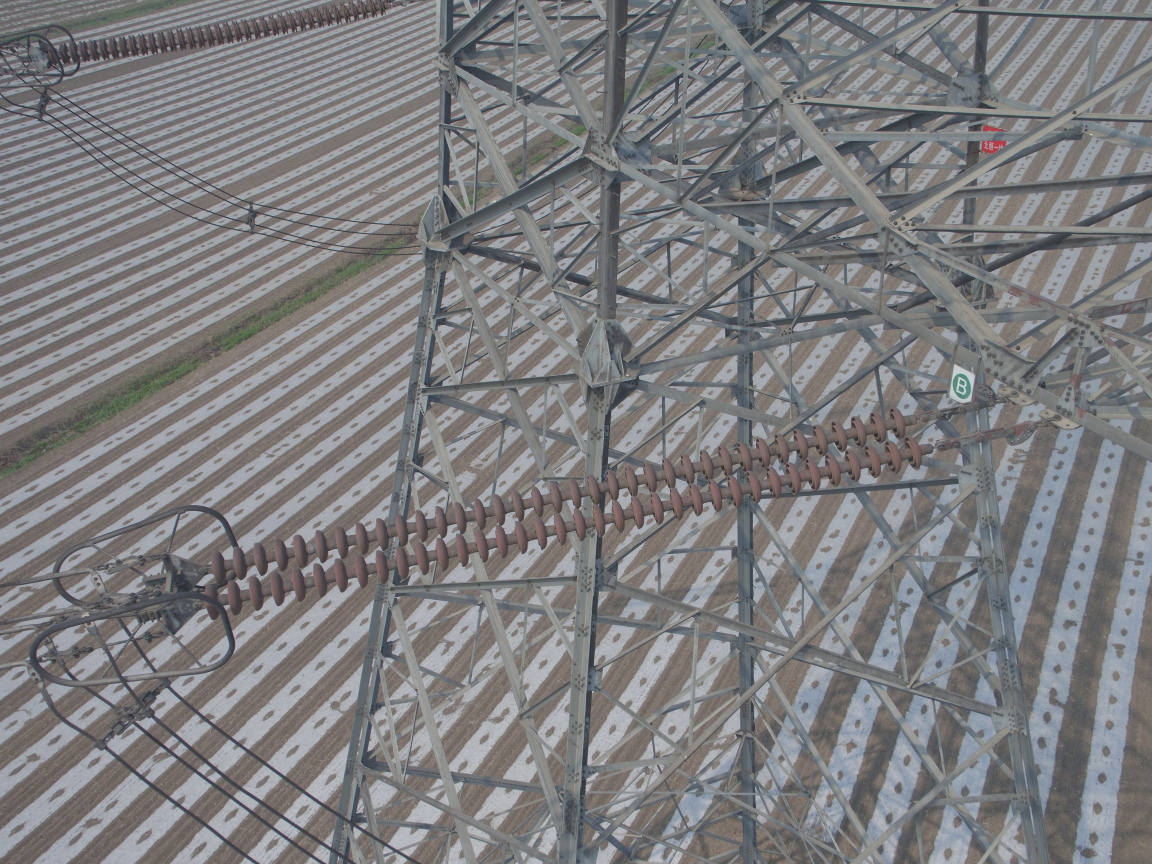insulator: (188, 404, 963, 621)
